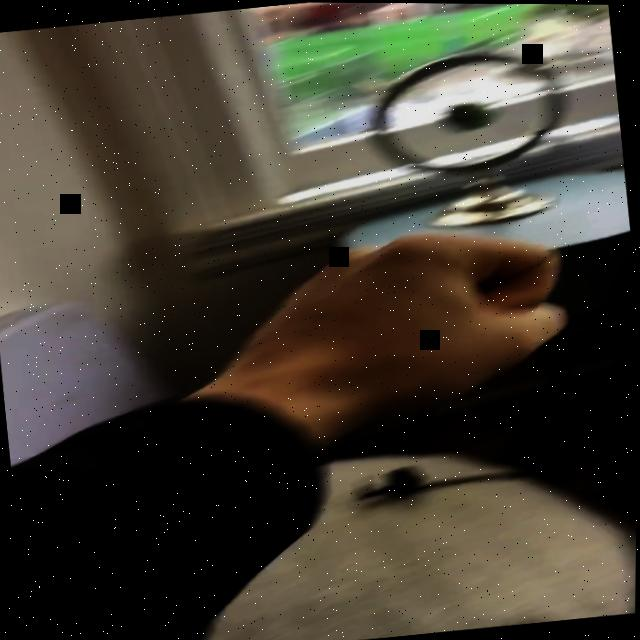Rock: (225, 216, 587, 432)
